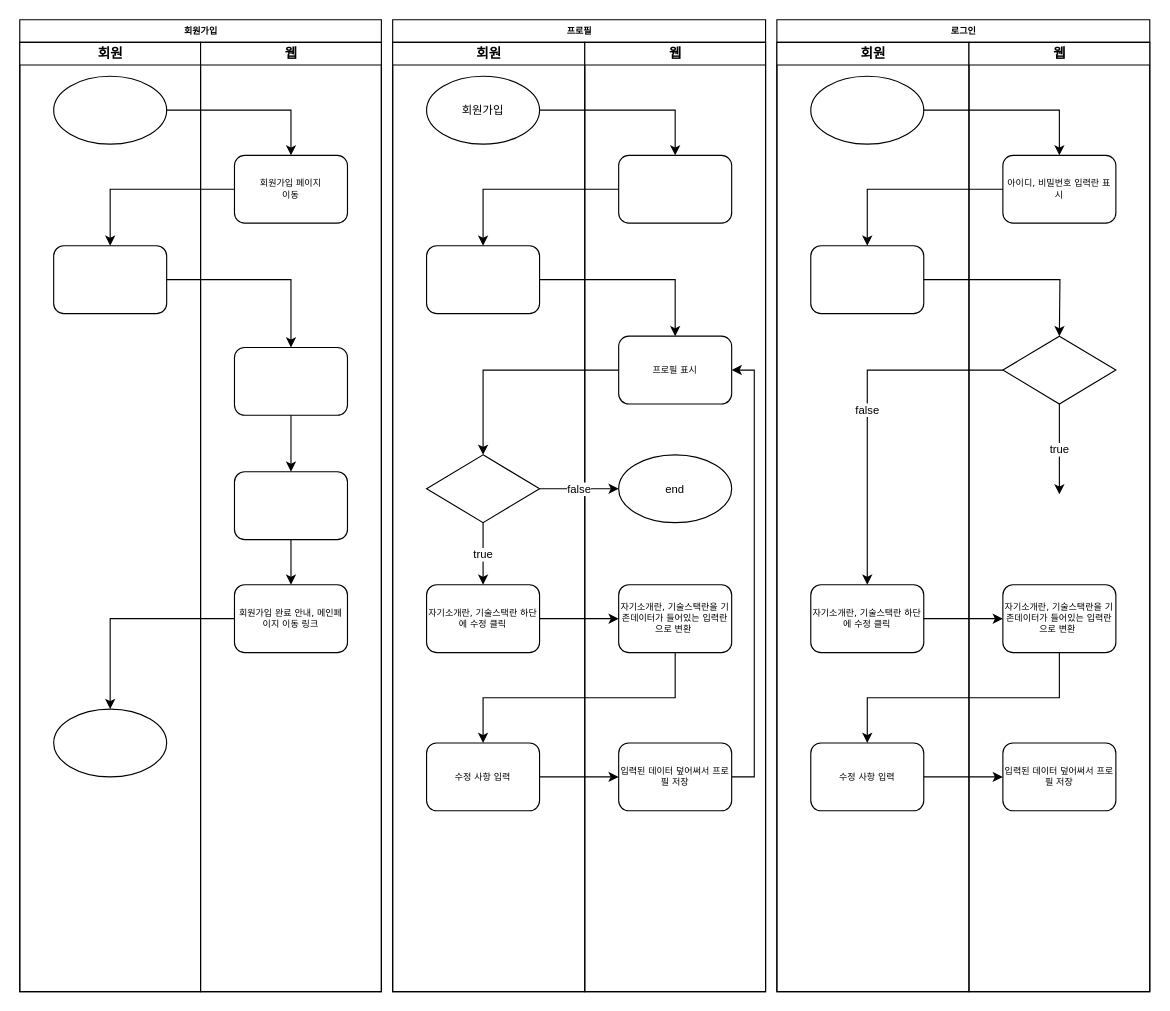
This 1170x1011 diagram has some shape labels left out. Here are the shapes that lost their labels. From the top down, the centre of each, then its label:
At point (110, 109): "페이지 상단 회원가입링크 클릭".
At point (867, 109): "페이지 상단 로그인 링크 클릭".
At point (675, 188): "빈 프로필 생성".
At point (110, 279): "아이디, 비밀번호, 닉네임란 입력 후 확인".
At point (482, 279): "메인페이지에서 아이디링크 클릭".
At point (867, 279): "아이디, 비밀번호 입력".
At point (290, 380): "입력된 아이디, 비밀번호, 닉네임 데이터 저장".
At point (1059, 369): "아이디와 비밃번호가 맞는가?".
At point (290, 505): "회원 빈 프로필 생성".
At point (482, 488): "프로필을 수정할 의향이 있는가?".
At point (110, 742): "메인페이지 이동".
